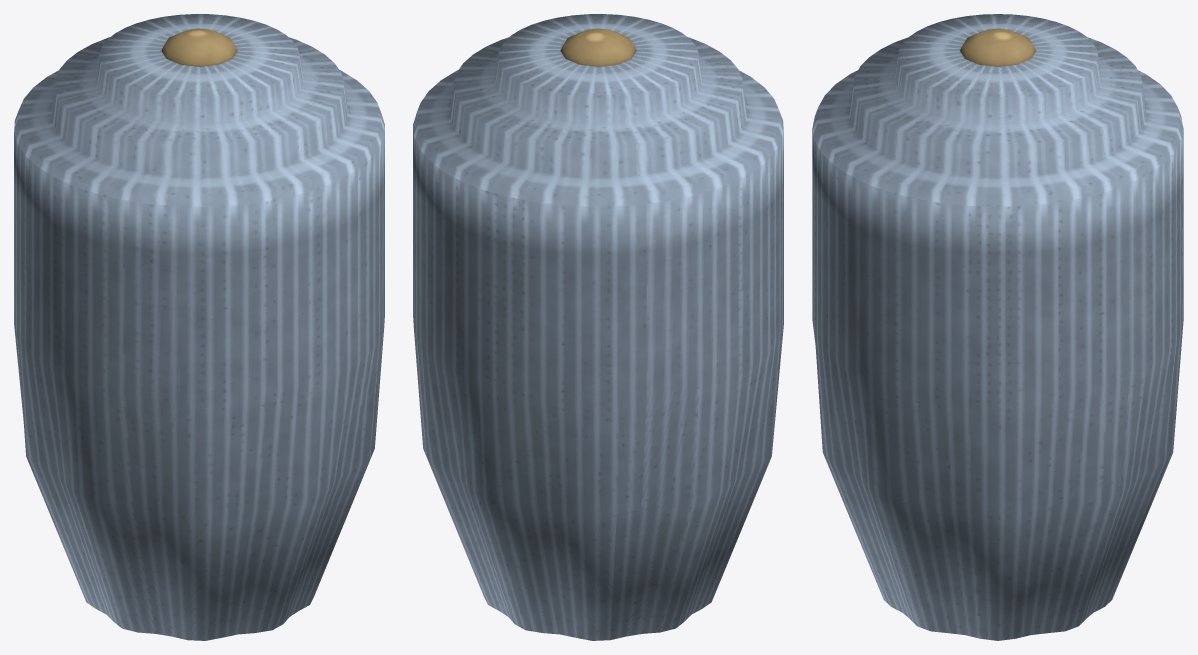
The model's file is shell_b1_tiered_disc.glb.
3 renders of one model, left to right at view 1: azimuth 30°, elevation 25°; view 2: azimuth 150°, elevation 25°; view 3: azimuth 270°, elevation 25°, orthographic.
Parts seen in each view (by area): view 1: ShellB1TieredDisc; view 2: ShellB1TieredDisc; view 3: ShellB1TieredDisc.
Part boxes in pixels (<box>): ShellB1TieredDisc: <box>14,14,384,640</box>; ShellB1TieredDisc: <box>413,14,783,640</box>; ShellB1TieredDisc: <box>812,14,1183,640</box>.
Bounding box in the file's own units: 1.4 × 2.47 × 1.4.
2 materials, 2 textured.
